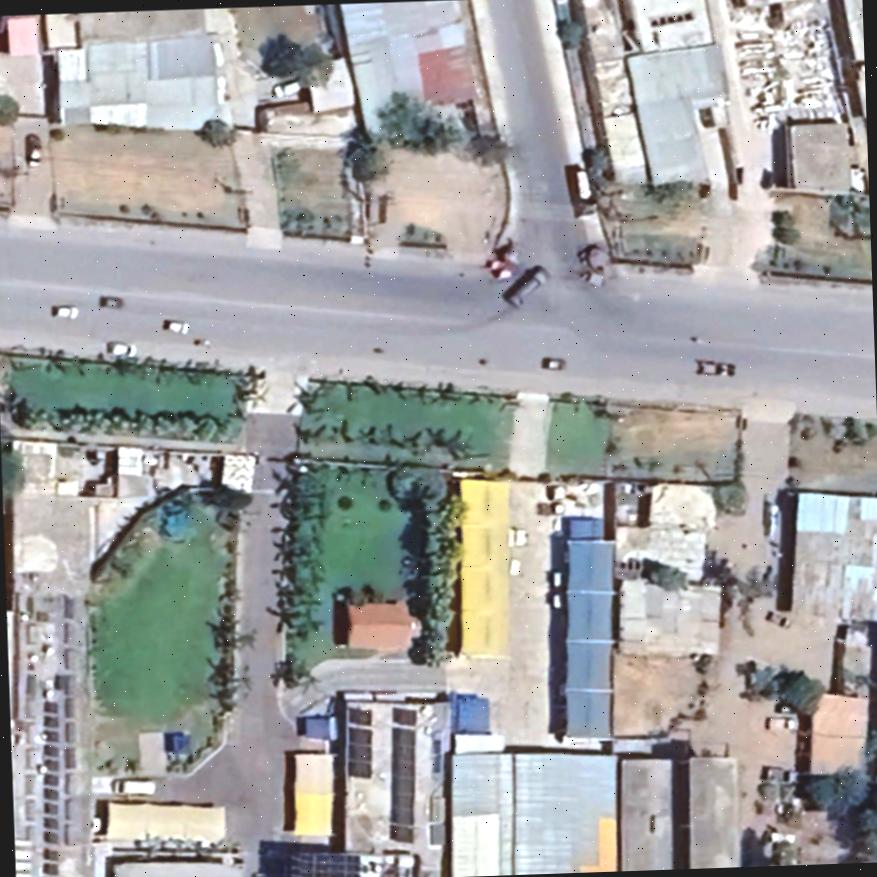Solarpanel: (383, 699, 417, 846), (276, 843, 357, 877), (339, 703, 372, 784)
